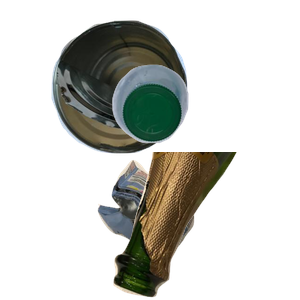glass: (111, 152, 300, 300)
metal: (49, 18, 229, 164)
plastic: (110, 62, 300, 198)
trash: (95, 157, 282, 300)
